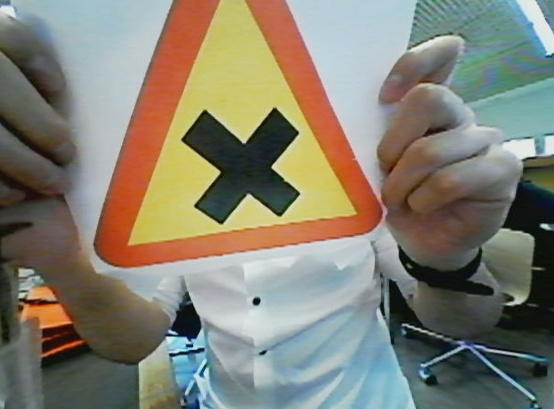junction: (97, 1, 379, 268)
